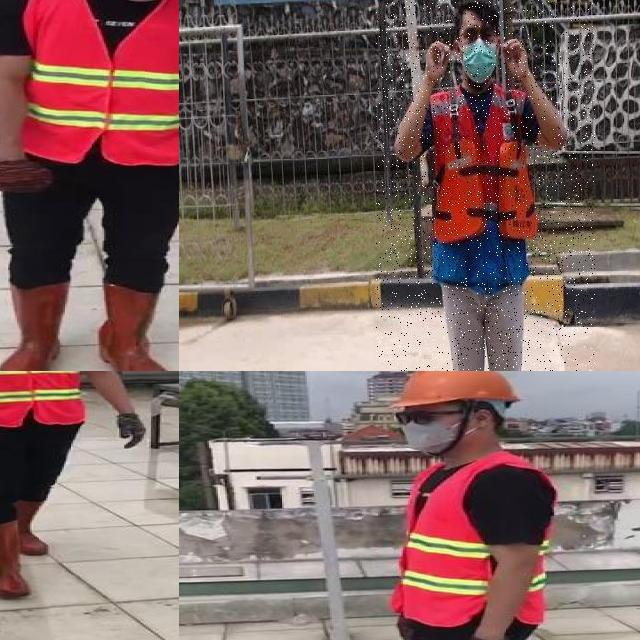boots: (97, 284, 175, 371), (0, 279, 66, 371), (0, 522, 33, 601), (12, 497, 50, 556)
face_mask: (394, 407, 467, 456)
glasses: (388, 406, 443, 427)
hand_glove: (0, 162, 52, 193), (116, 411, 148, 449)
head_helmet: (389, 371, 522, 410)
person: (376, 0, 595, 371), (0, 0, 179, 371), (352, 371, 586, 640), (0, 371, 156, 609)
vest: (10, 0, 179, 162), (394, 455, 549, 622), (430, 86, 536, 284), (0, 371, 87, 427)
